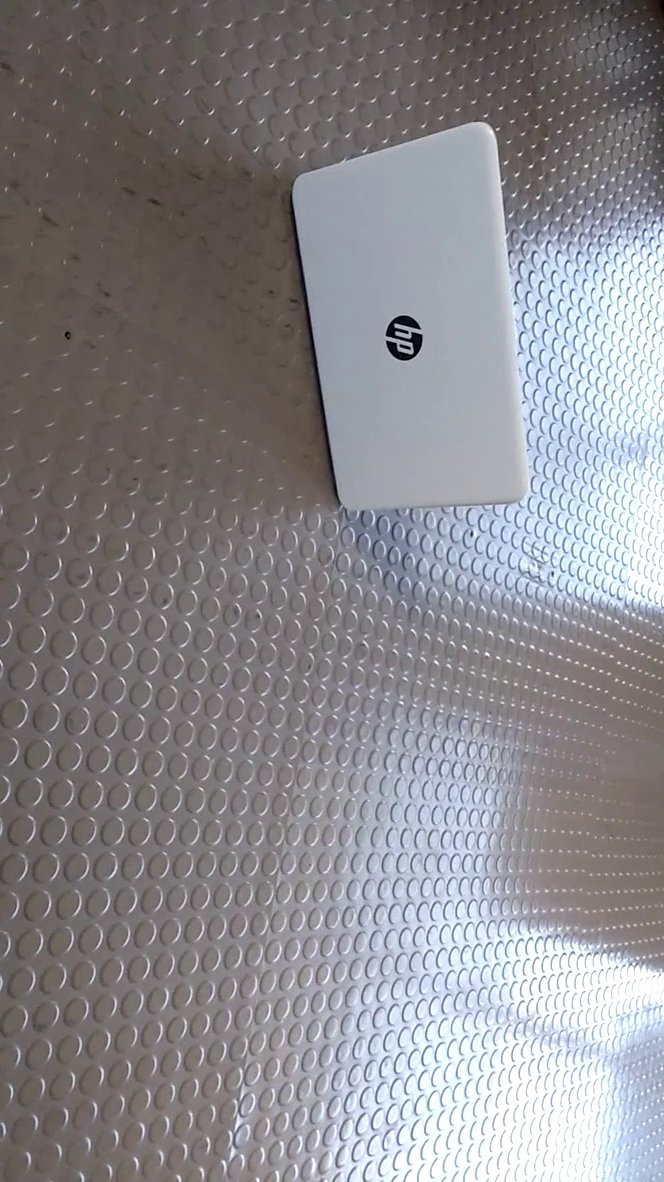laptop: (279, 113, 544, 529)
